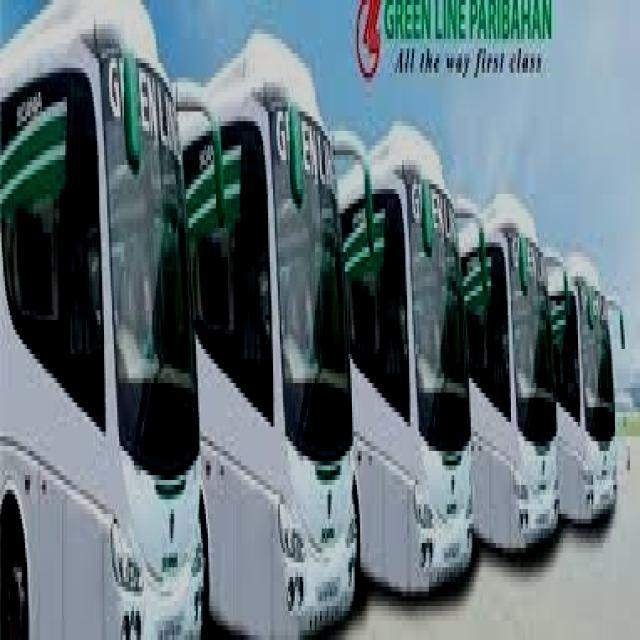Bus: (4, 0, 222, 640), (171, 0, 368, 640), (330, 34, 482, 631), (471, 124, 563, 582), (554, 226, 628, 546)
